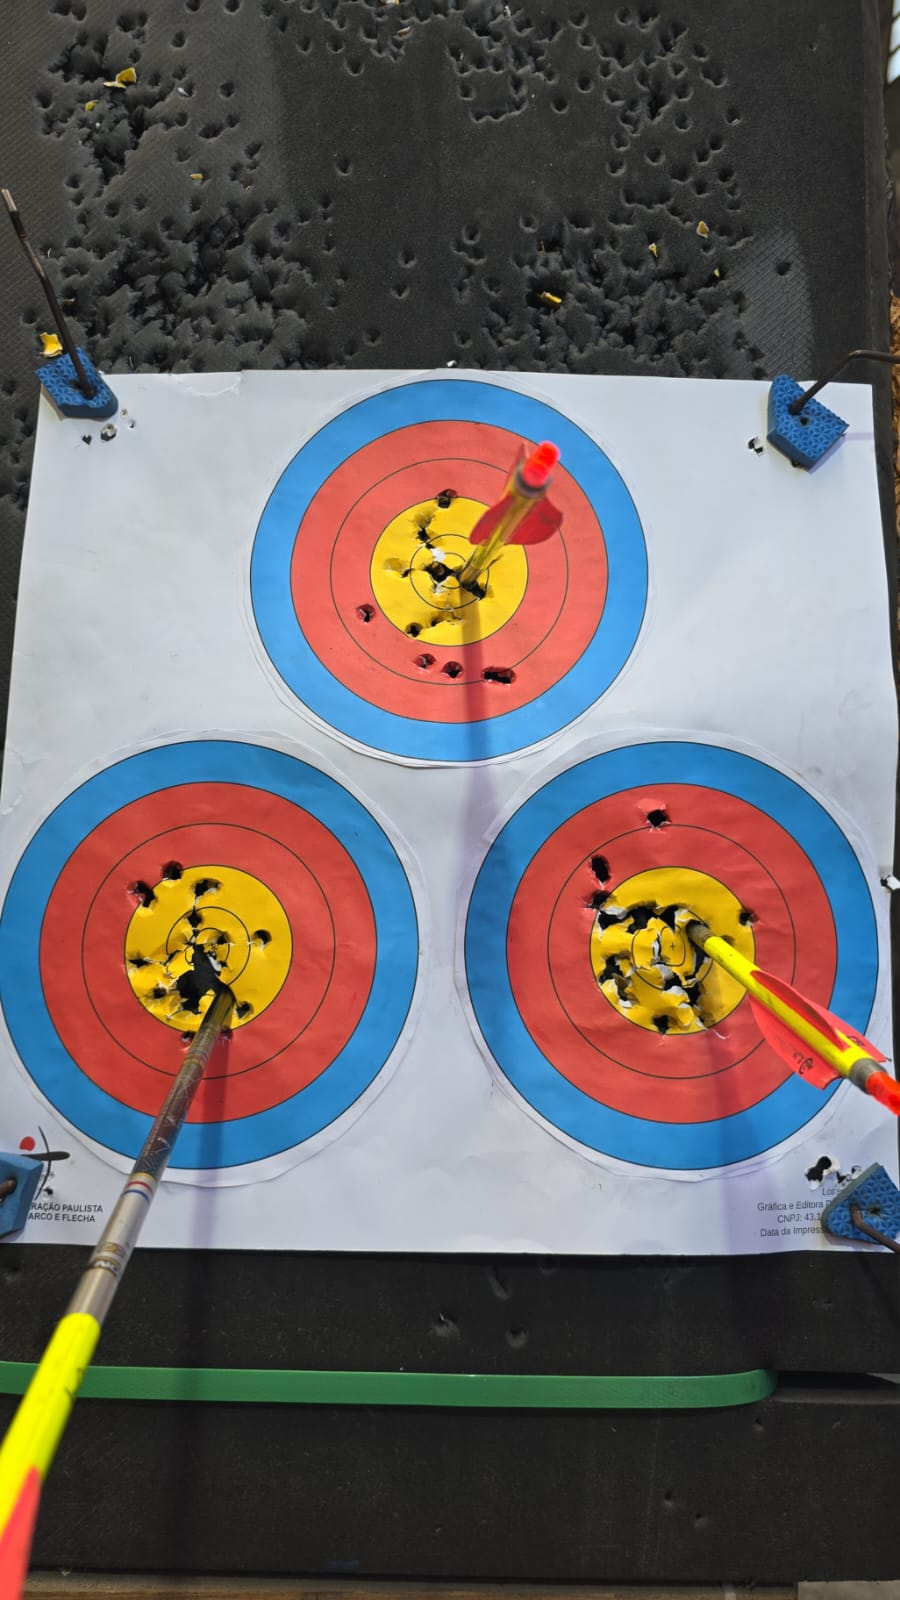10: (251, 405, 651, 775)
9: (27, 738, 418, 1166)
9 linha 10: (459, 747, 878, 1142)
